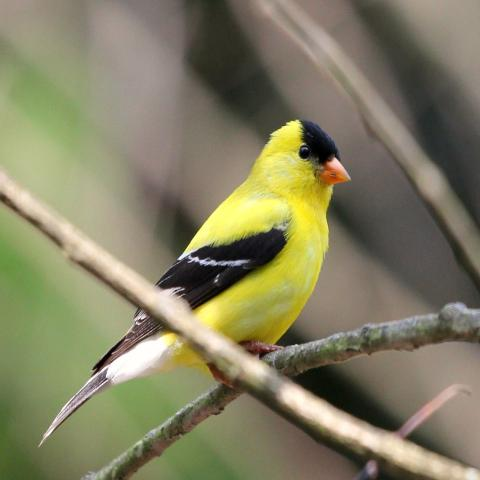bird: (36, 116, 352, 448)
